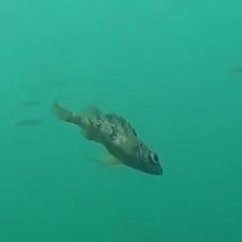mebaru: (44, 95, 170, 191)
